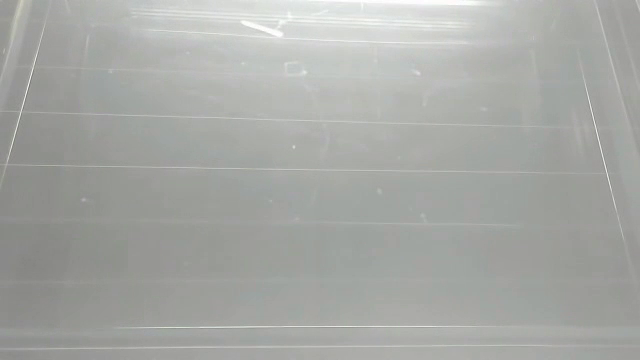alpha: (237, 17, 292, 46)
